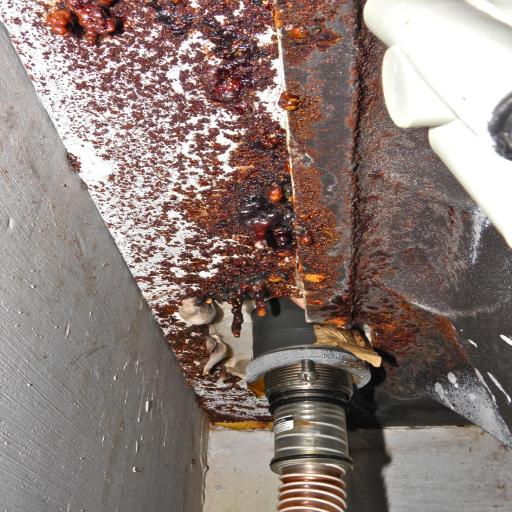segmentation: (0, 0, 512, 447), (350, 1, 512, 447)
